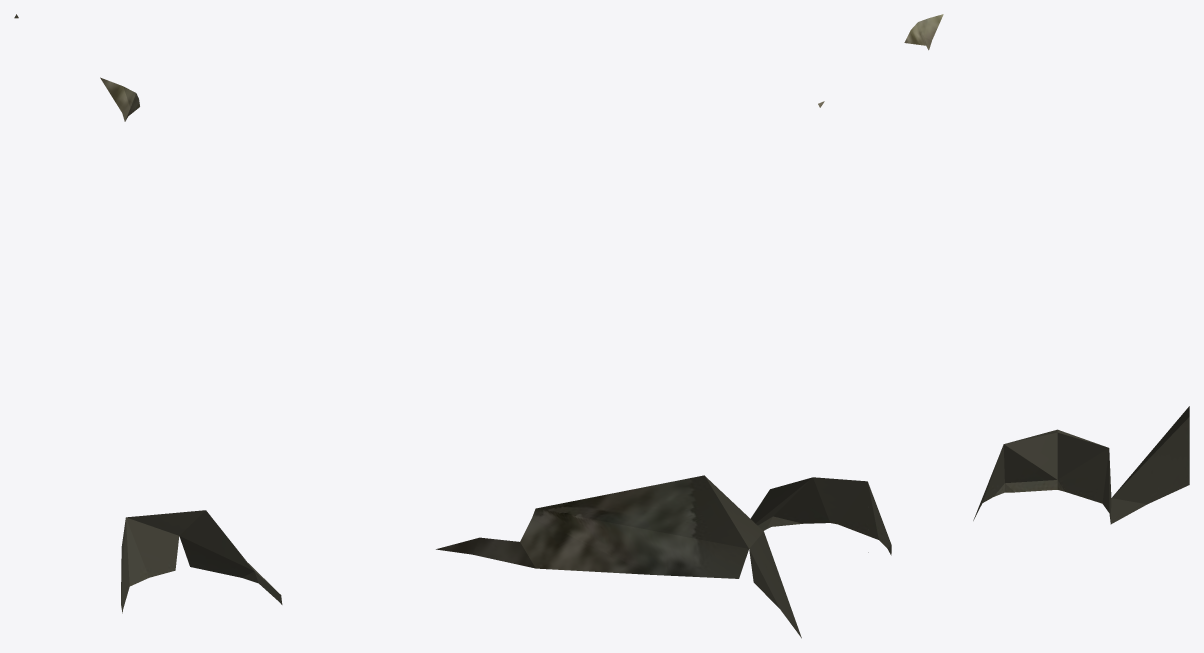
The picture shows the model from 3 angles, left to right: view 1: azimuth 30°, elevation 25°; view 2: azimuth 150°, elevation 25°; view 3: azimuth 270°, elevation 25°; orthographic projection. The views are drawn at different scales.
Size of the model in its own units: 2.21 by 2.95 by 1.25.
Materials: 1 (1 with a texture image).
